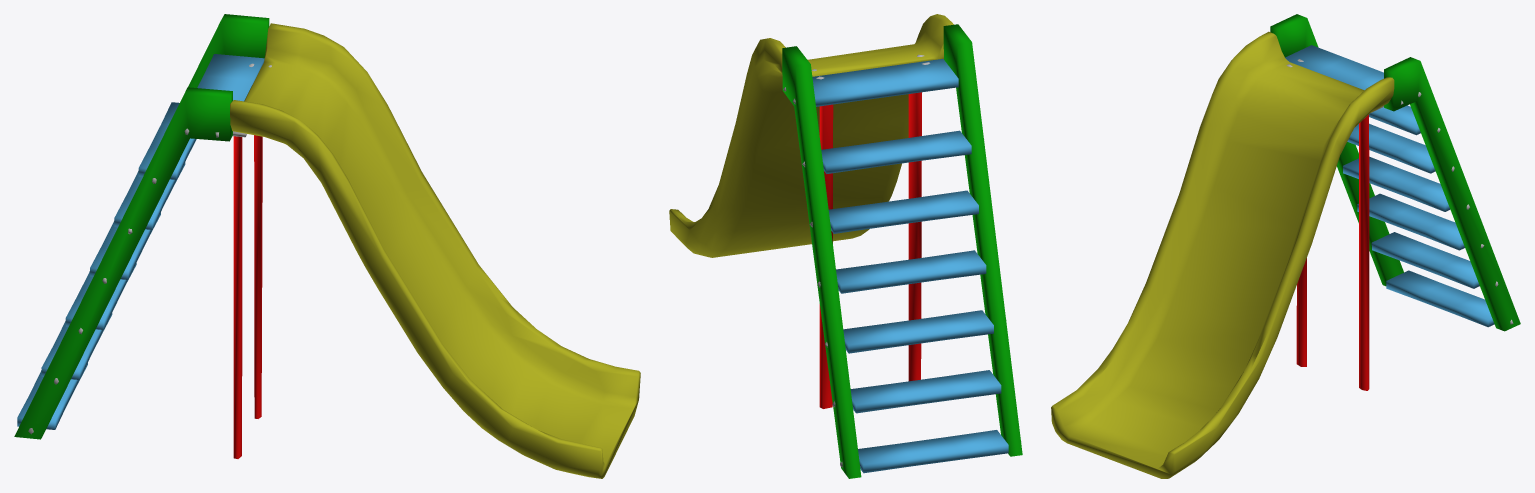
Rendered from slide2.fbx.
3 renders of one model, left to right at view 1: azimuth 30°, elevation 25°; view 2: azimuth 150°, elevation 25°; view 3: azimuth 270°, elevation 25°, orthographic. The views are drawn at different scales.
Visible parts, largest first — view 1: Slide; view 2: Slide; view 3: Slide.
Boxes of the visible parts, x1=… form: Slide: x1=14, y1=14, x2=640, y2=478; Slide: x1=669, y1=14, x2=1022, y2=478; Slide: x1=1051, y1=14, x2=1520, y2=478.
Bounding box in the file's own units: 826 × 601 × 781.
